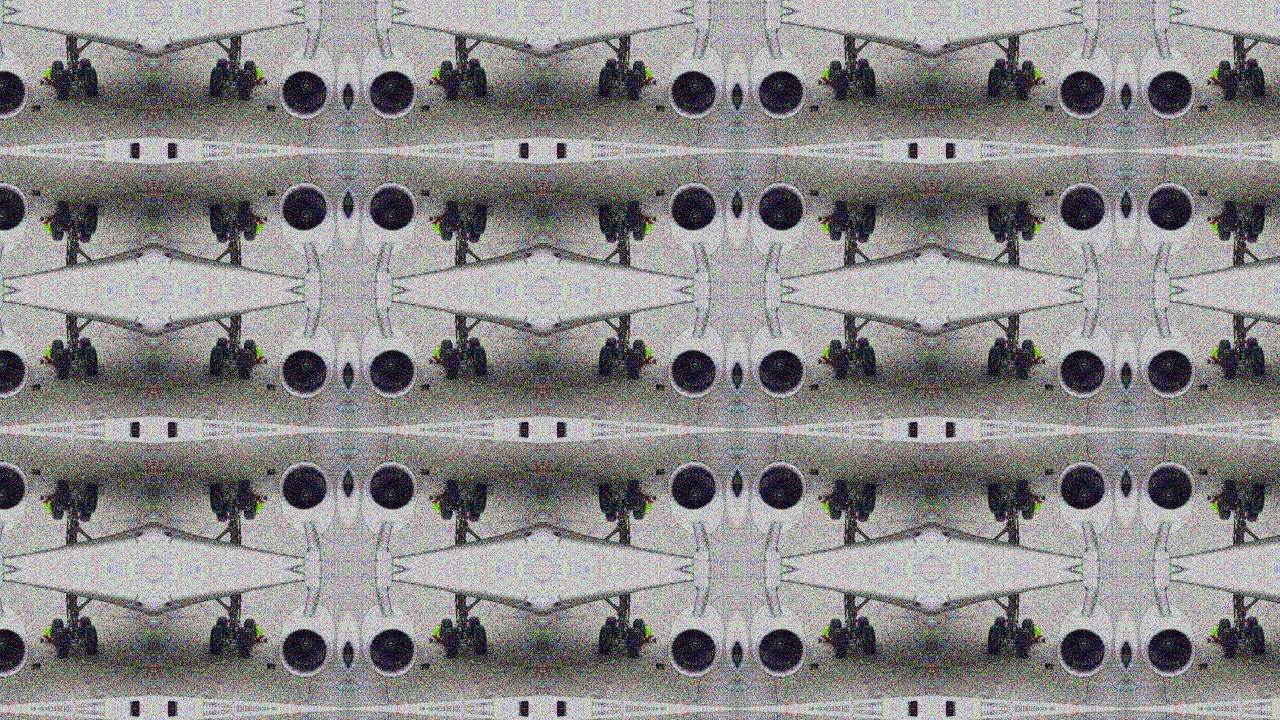chock: (28, 104, 39, 111), (266, 104, 277, 111), (418, 104, 429, 111), (656, 104, 667, 111), (808, 104, 819, 111), (1046, 104, 1057, 111), (1198, 104, 1209, 111), (28, 189, 39, 196), (266, 189, 277, 196), (418, 189, 429, 196), (656, 189, 667, 196), (808, 189, 819, 196), (1046, 189, 1057, 196), (1198, 189, 1209, 196), (28, 384, 39, 391), (266, 384, 277, 391), (418, 384, 429, 391), (656, 384, 667, 391), (808, 384, 819, 391), (1046, 384, 1057, 391), (1198, 384, 1209, 391), (28, 469, 39, 476), (266, 469, 277, 476), (418, 469, 429, 476), (656, 469, 667, 476), (808, 469, 819, 476), (1046, 469, 1057, 476), (1198, 469, 1209, 476), (28, 664, 39, 671), (266, 664, 277, 671), (418, 664, 429, 671), (656, 664, 667, 671), (808, 664, 819, 671), (1046, 664, 1057, 671), (1198, 664, 1209, 671), (128, 142, 138, 148), (167, 142, 177, 148), (518, 142, 528, 148), (557, 142, 567, 148), (908, 142, 918, 148), (947, 142, 957, 148), (128, 152, 138, 158), (167, 152, 177, 158), (518, 152, 528, 158), (557, 152, 567, 158), (908, 152, 918, 158), (947, 152, 957, 158), (128, 422, 138, 428), (167, 422, 177, 428), (518, 422, 528, 428), (557, 422, 567, 428), (908, 422, 918, 428), (947, 422, 957, 428), (128, 432, 138, 438), (167, 432, 177, 438), (518, 432, 528, 438), (557, 432, 567, 438), (908, 432, 918, 438), (947, 432, 957, 438), (128, 702, 138, 708), (167, 702, 177, 708), (518, 702, 528, 708), (557, 702, 567, 708), (908, 702, 918, 708), (947, 702, 957, 708), (128, 712, 138, 718), (167, 712, 177, 718), (518, 712, 528, 718), (557, 712, 567, 718), (908, 712, 918, 718), (947, 712, 957, 718), (54, 95, 64, 100), (241, 95, 251, 100), (444, 95, 454, 100), (631, 95, 641, 100), (834, 95, 844, 100), (1021, 95, 1031, 100), (1224, 95, 1234, 100), (54, 200, 64, 205), (241, 200, 251, 205), (444, 200, 454, 205), (631, 200, 641, 205), (834, 200, 844, 205), (1021, 200, 1031, 205), (1224, 200, 1234, 205), (54, 375, 64, 380), (241, 375, 251, 380), (444, 375, 454, 380), (631, 375, 641, 380), (834, 375, 844, 380), (1021, 375, 1031, 380), (1224, 375, 1234, 380), (54, 480, 64, 485), (241, 480, 251, 485), (444, 480, 454, 485), (631, 480, 641, 485), (834, 480, 844, 485), (1021, 480, 1031, 485), (1224, 480, 1234, 485), (54, 655, 64, 660), (241, 655, 251, 660), (444, 655, 454, 660), (631, 655, 641, 660), (834, 655, 844, 660), (1021, 655, 1031, 660), (1224, 655, 1234, 660), (129, 147, 138, 150), (167, 147, 176, 150), (519, 147, 528, 150), (557, 147, 566, 150), (909, 147, 918, 150), (947, 147, 956, 150), (129, 150, 138, 153), (167, 150, 176, 153), (519, 150, 528, 153), (557, 150, 566, 153), (909, 150, 918, 153), (947, 150, 956, 153), (129, 427, 138, 430), (167, 427, 176, 430), (519, 427, 528, 430), (557, 427, 566, 430), (909, 427, 918, 430), (947, 427, 956, 430), (129, 430, 138, 433), (167, 430, 176, 433), (519, 430, 528, 433), (557, 430, 566, 433), (909, 430, 918, 433), (947, 430, 956, 433), (129, 707, 138, 710), (167, 707, 176, 710), (519, 707, 528, 710), (557, 707, 566, 710), (909, 707, 918, 710), (947, 707, 956, 710), (129, 710, 138, 713), (167, 710, 176, 713), (519, 710, 528, 713), (557, 710, 566, 713), (909, 710, 918, 713), (947, 710, 956, 713)
wheel: (53, 66, 68, 99), (237, 66, 252, 99), (443, 66, 458, 99), (627, 66, 642, 99), (833, 66, 848, 99), (1017, 66, 1032, 99), (1223, 66, 1238, 99), (53, 201, 68, 234), (237, 201, 252, 234), (443, 201, 458, 234), (627, 201, 642, 234), (833, 201, 848, 234), (1017, 201, 1032, 234), (1223, 201, 1238, 234), (53, 346, 68, 379), (237, 346, 252, 379), (443, 346, 458, 379), (627, 346, 642, 379), (833, 346, 848, 379), (1017, 346, 1032, 379), (1223, 346, 1238, 379), (53, 481, 68, 514), (237, 481, 252, 514), (443, 481, 458, 514), (627, 481, 642, 514), (833, 481, 848, 514), (1017, 481, 1032, 514), (1223, 481, 1238, 514), (53, 626, 68, 659), (237, 626, 252, 659), (443, 626, 458, 659), (627, 626, 642, 659), (833, 626, 848, 659), (1017, 626, 1032, 659), (1223, 626, 1238, 659), (82, 65, 97, 96), (208, 65, 223, 96), (472, 65, 487, 96), (598, 65, 613, 96), (862, 65, 877, 96), (988, 65, 1003, 96), (1252, 65, 1267, 96), (82, 204, 97, 235), (208, 204, 223, 235), (472, 204, 487, 235), (598, 204, 613, 235), (862, 204, 877, 235), (988, 204, 1003, 235), (1252, 204, 1267, 235), (82, 345, 97, 376), (208, 345, 223, 376), (472, 345, 487, 376), (598, 345, 613, 376), (862, 345, 877, 376), (988, 345, 1003, 376), (1252, 345, 1267, 376), (82, 484, 97, 515), (208, 484, 223, 515), (472, 484, 487, 515), (598, 484, 613, 515), (862, 484, 877, 515), (988, 484, 1003, 515), (1252, 484, 1267, 515), (82, 625, 97, 656), (208, 625, 223, 656), (472, 625, 487, 656), (598, 625, 613, 656), (862, 625, 877, 656), (988, 625, 1003, 656), (1252, 625, 1267, 656), (50, 59, 63, 88), (242, 59, 255, 88), (440, 59, 453, 88), (632, 59, 645, 88), (830, 59, 843, 88), (1022, 59, 1035, 88), (1220, 59, 1233, 88), (50, 212, 63, 241), (242, 212, 255, 241), (440, 212, 453, 241), (632, 212, 645, 241), (830, 212, 843, 241), (1022, 212, 1035, 241), (1220, 212, 1233, 241), (50, 339, 63, 368), (242, 339, 255, 368), (440, 339, 453, 368), (632, 339, 645, 368), (830, 339, 843, 368), (1022, 339, 1035, 368), (1220, 339, 1233, 368), (50, 492, 63, 521), (242, 492, 255, 521), (440, 492, 453, 521), (632, 492, 645, 521), (830, 492, 843, 521), (1022, 492, 1035, 521), (1220, 492, 1233, 521), (50, 619, 63, 648), (242, 619, 255, 648), (440, 619, 453, 648), (632, 619, 645, 648), (830, 619, 843, 648), (1022, 619, 1035, 648), (1220, 619, 1233, 648), (77, 57, 89, 76), (216, 57, 228, 76), (467, 57, 479, 76), (606, 57, 618, 76), (857, 57, 869, 76), (996, 57, 1008, 76), (1247, 57, 1259, 76), (77, 224, 89, 243), (216, 224, 228, 243), (467, 224, 479, 243), (606, 224, 618, 243), (857, 224, 869, 243), (996, 224, 1008, 243), (1247, 224, 1259, 243), (77, 337, 89, 356), (216, 337, 228, 356), (467, 337, 479, 356), (606, 337, 618, 356), (857, 337, 869, 356), (996, 337, 1008, 356), (1247, 337, 1259, 356), (77, 504, 89, 523), (216, 504, 228, 523), (467, 504, 479, 523), (606, 504, 618, 523), (857, 504, 869, 523), (996, 504, 1008, 523), (1247, 504, 1259, 523), (77, 617, 89, 636), (216, 617, 228, 636), (467, 617, 479, 636), (606, 617, 618, 636), (857, 617, 869, 636), (996, 617, 1008, 636), (1247, 617, 1259, 636)
